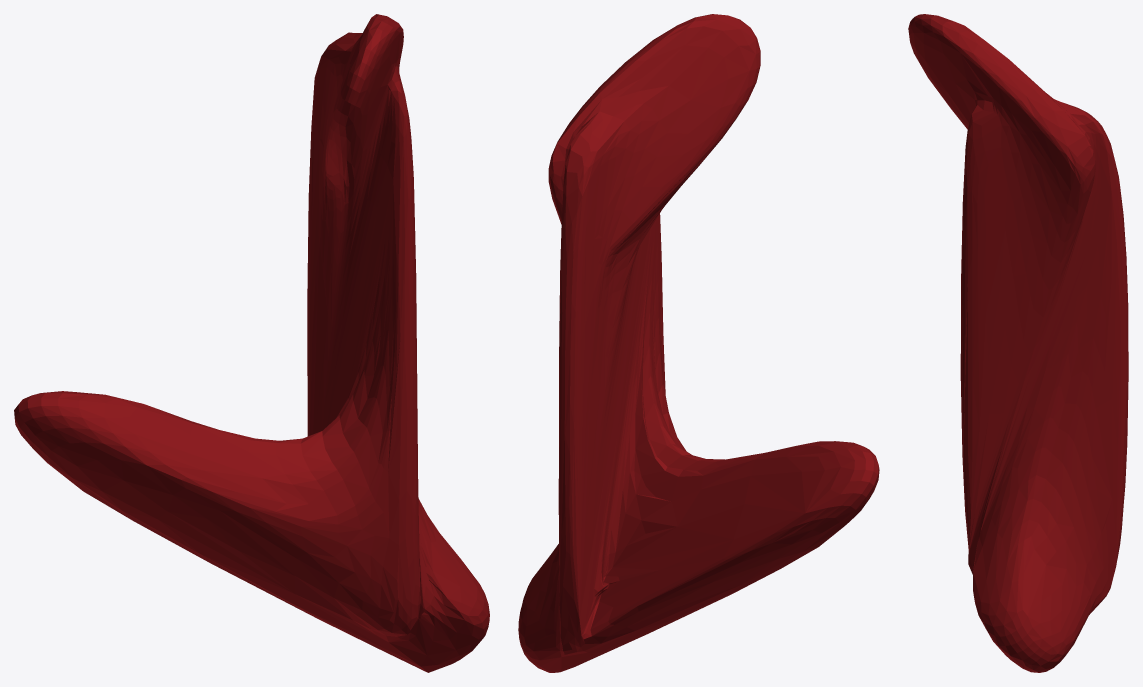
The picture shows the model from 3 angles, left to right: view 1: azimuth 30°, elevation 25°; view 2: azimuth 150°, elevation 25°; view 3: azimuth 270°, elevation 25°; orthographic projection. The views are drawn at different scales.
Parts seen in each view (by area): view 1: 103_Cube.433; view 2: 103_Cube.433; view 3: 103_Cube.433.
Part boxes in pixels (<box>): 103_Cube.433: <box>14,14,489,672</box>; 103_Cube.433: <box>518,14,879,672</box>; 103_Cube.433: <box>908,14,1128,672</box>.
Bounding box in the file's own units: 9.51 × 15.15 × 4.98.
